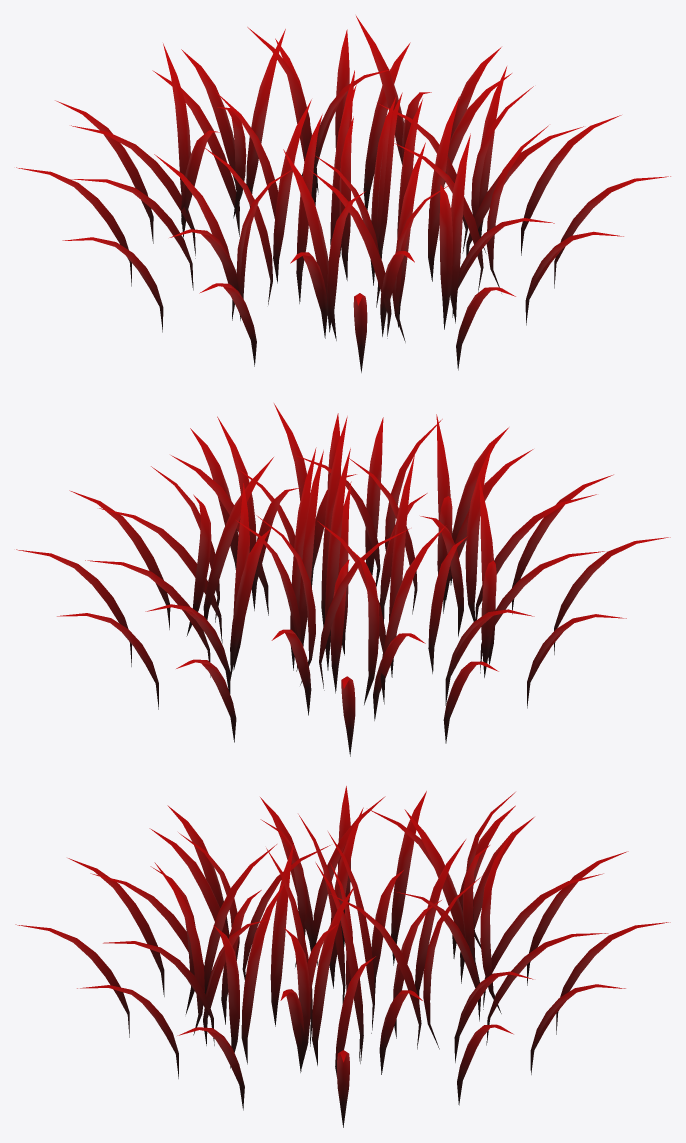
File: grass.fbx
The picture shows the model from 3 angles, top to bottom: view 1: azimuth 30°, elevation 25°; view 2: azimuth 150°, elevation 25°; view 3: azimuth 270°, elevation 25°; orthographic projection. The views are drawn at different scales.
Visible parts, largest first — view 1: Grass; view 2: Grass; view 3: Grass.
Boxes of the visible parts, x1=… form: Grass: x1=16, y1=16, x2=670, y2=372; Grass: x1=16, y1=403, x2=670, y2=756; Grass: x1=15, y1=786, x2=670, y2=1127.
Size of the model in its own units: 8.21 by 3.13 by 8.5.
